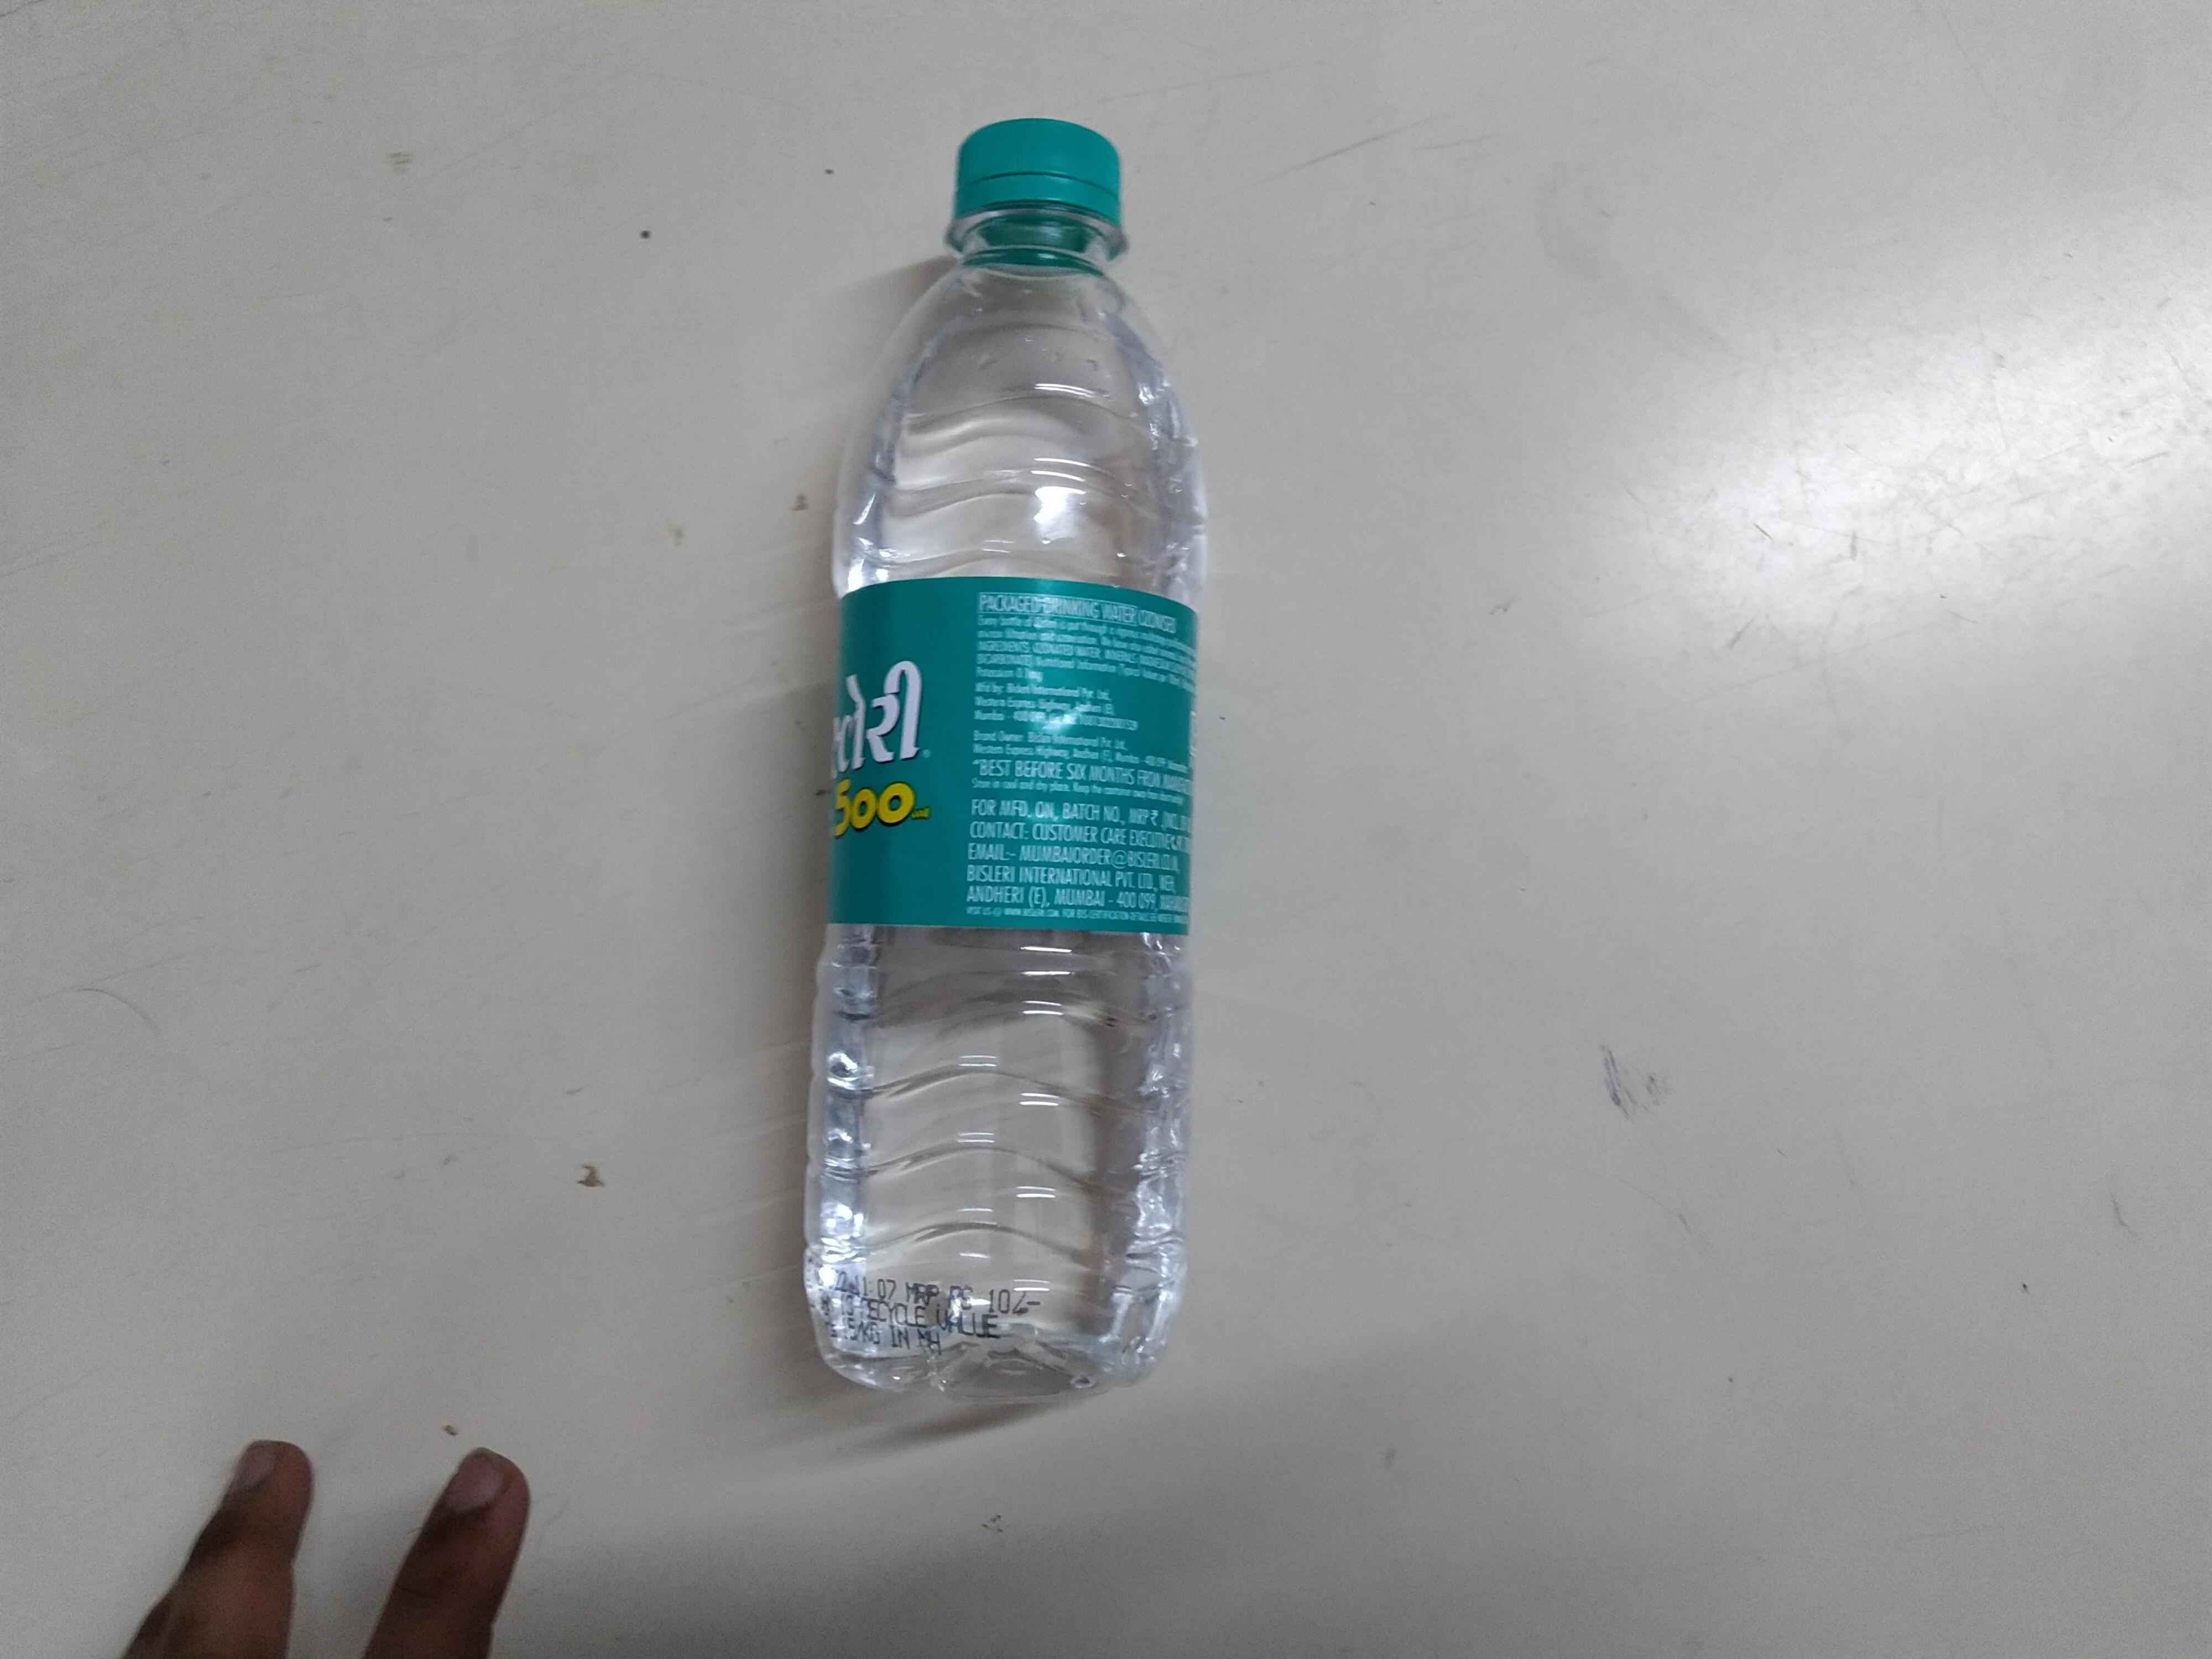Bisleri: (834, 594, 1191, 925)
